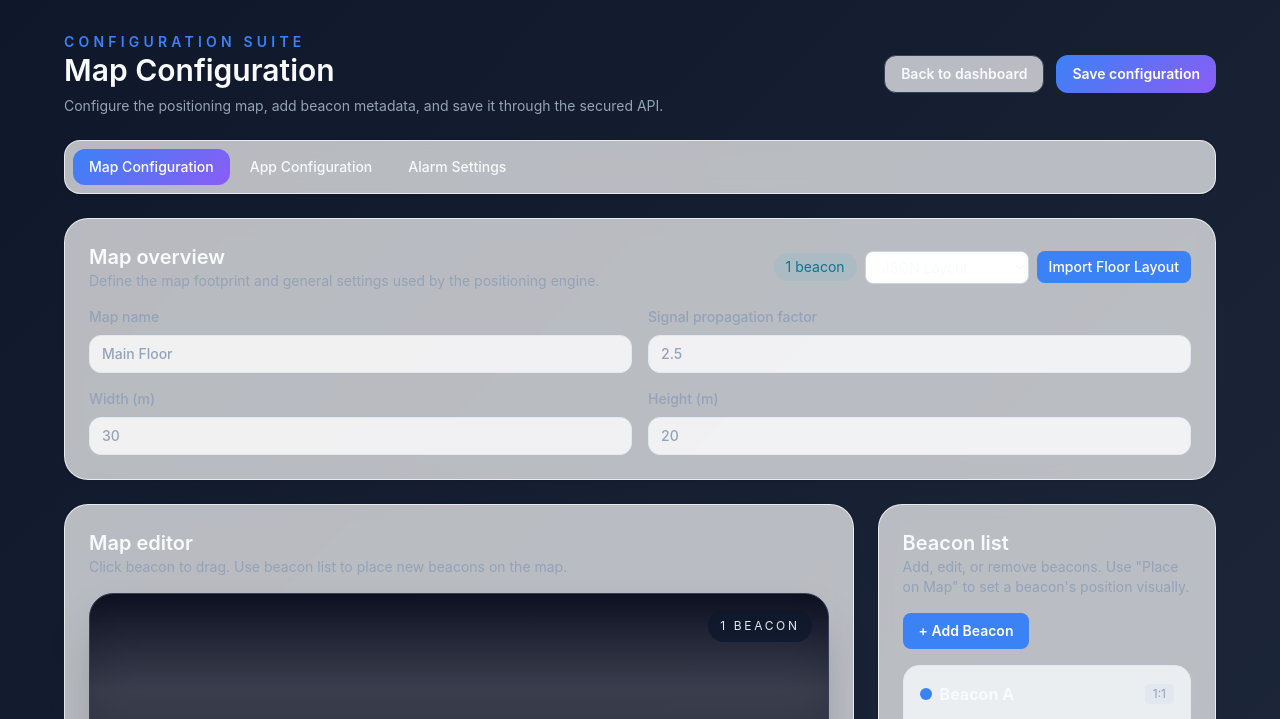
Test case: ConfigurationPage - App Configuration Tab › renders App Configuration content when tab is selected
Note: Switch to App Configuration tab
Click the tab "App Configuration".
click(311, 167)  # box [234,149,388,185]
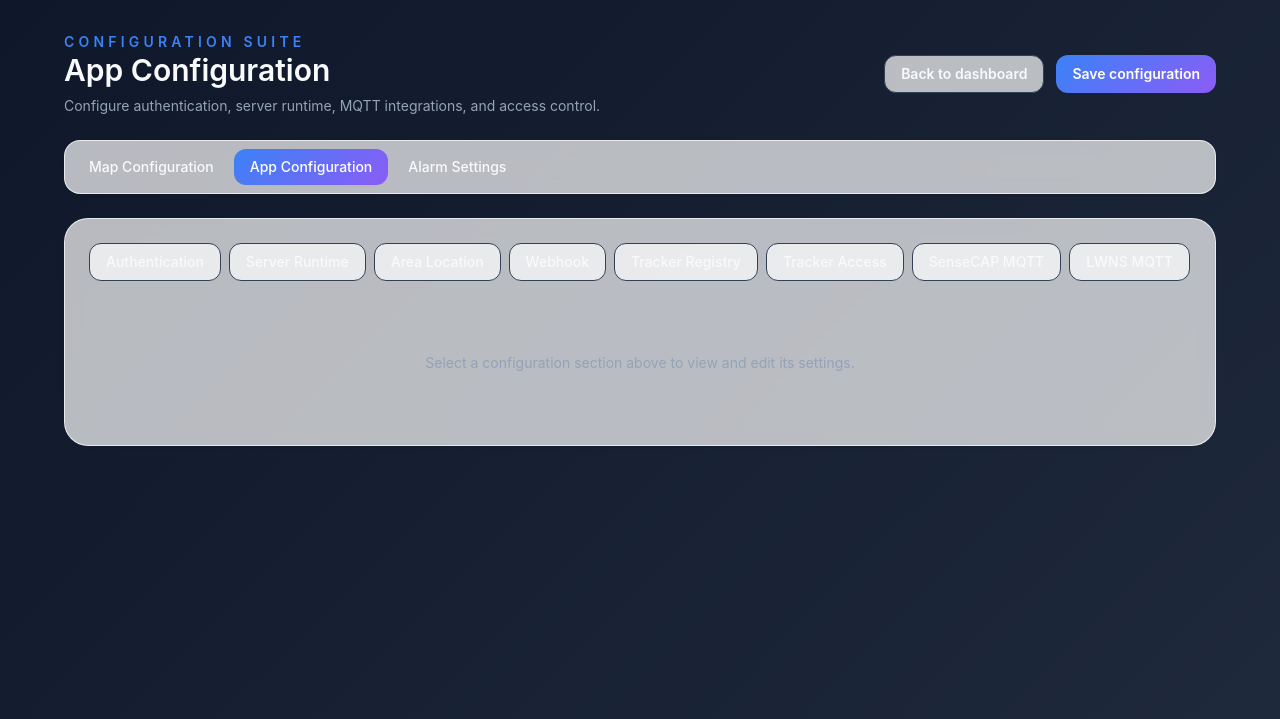
Now the button "Authentication" is shown, box [89,243,221,281]
Now the button "Server Runtime" is shown, box [229,243,366,281]
Now the button "Area Location" is shown, box [374,243,501,281]
